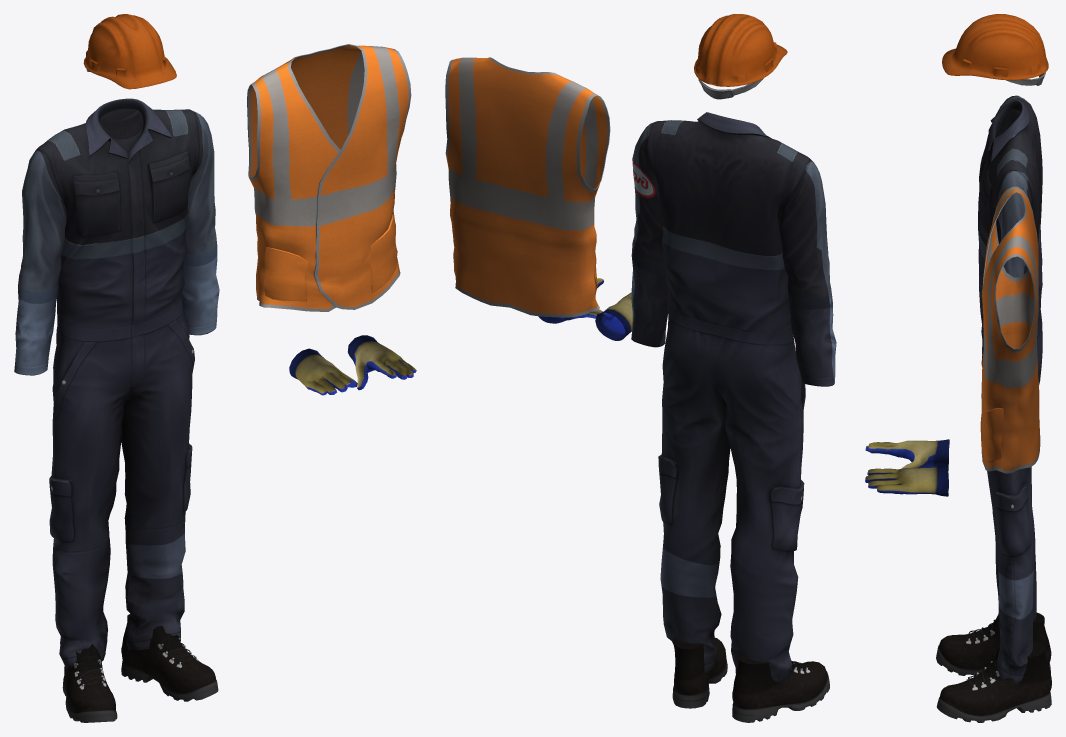
The model's file is worker_uniforme_jelet.fbx.
3 views of the same model, side by side, from view 1: azimuth 30°, elevation 25°; view 2: azimuth 150°, elevation 25°; view 3: azimuth 270°, elevation 25° (orthographic).
Visible parts, largest first — view 1: uniforme, Box002, kaska001, Boot2, Boot1, gl2, gl1; view 2: uniforme, Box002, kaska001, Boot1, Boot2, gl1; view 3: uniforme, Box002, kaska001, Boot2, Boot1, gl2, gl1.
Boxes of the visible parts, x1,y1,x2,y2 form: uniforme: (14,98,219,668); Box002: (247,44,411,311); kaska001: (83,14,176,89); Boot2: (121,614,218,701); Boot1: (62,644,117,722); gl2: (347,335,416,390); gl1: (289,348,357,395); uniforme: (631,112,836,682); Box002: (445,57,610,317); kaska001: (694,14,787,99); Boot1: (732,654,829,722); Boot2: (672,637,727,708); gl1: (595,292,632,340); uniforme: (978,95,1042,683); Box002: (980,186,1040,473); kaska001: (942,14,1048,85); Boot2: (936,642,1051,722); Boot1: (936,612,1051,675); gl2: (865,465,948,496); gl1: (865,439,949,468).
Bounding box in the file's own units: 1.09 × 1.82 × 0.4567.
